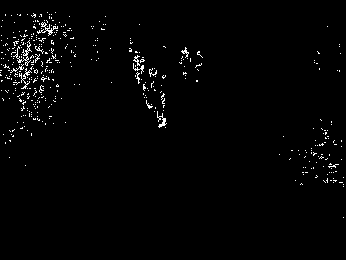person: (141, 66, 171, 132)
